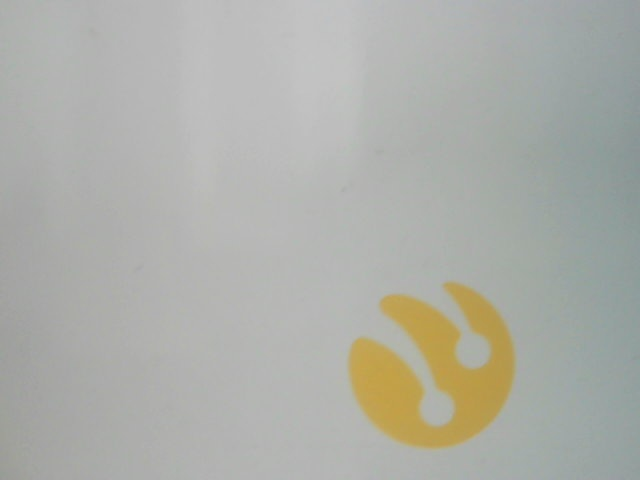AV_H3600Yellow: (340, 277, 520, 448)
